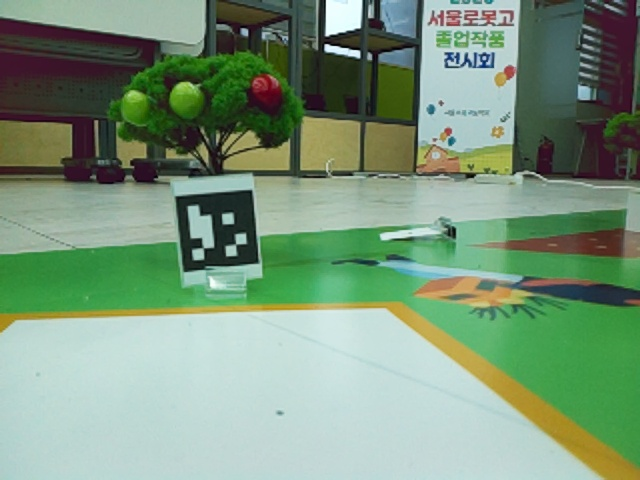apple: (244, 70, 289, 122)
